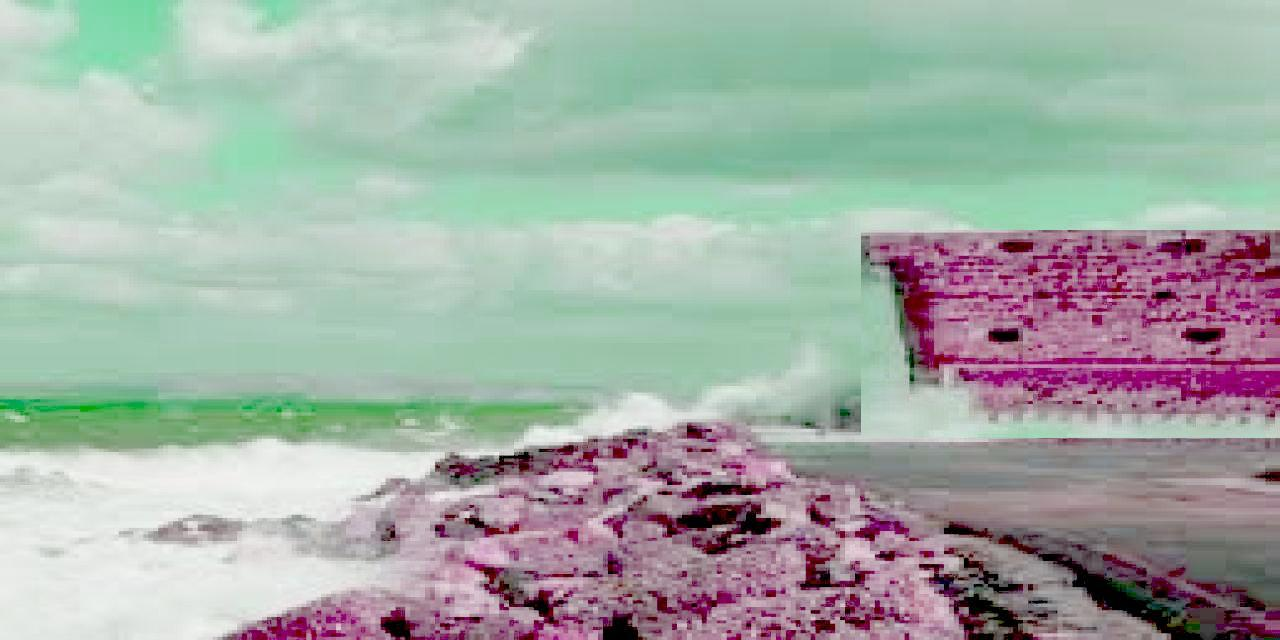Kules: (862, 231, 1280, 439)
